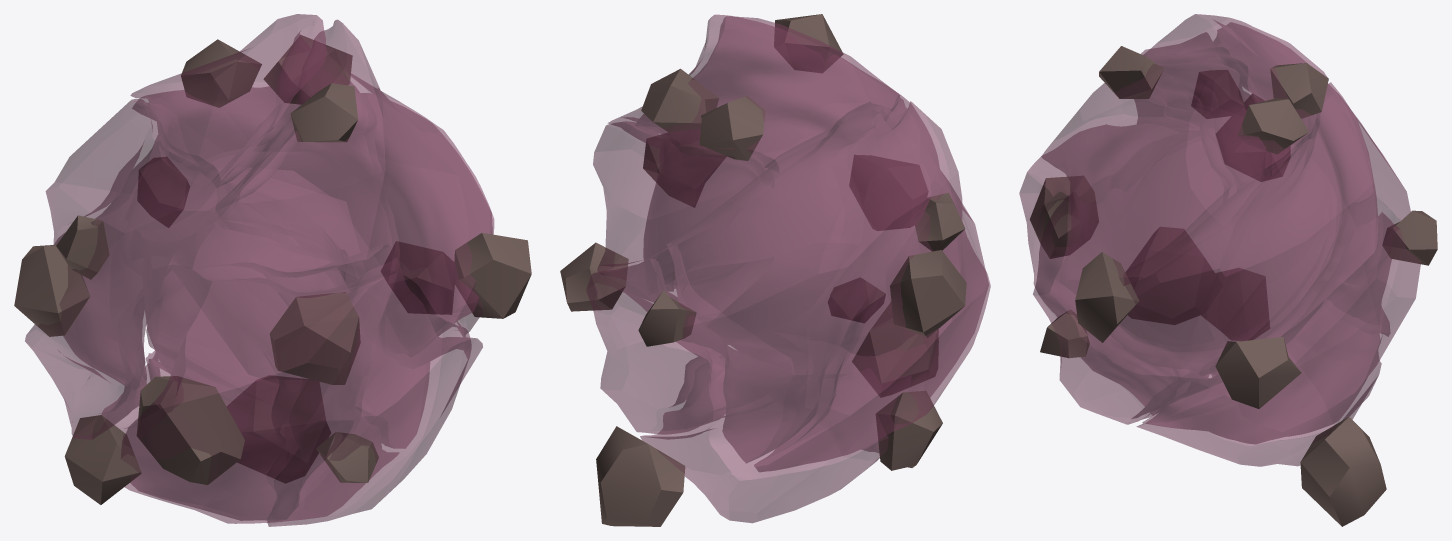
The model's file is p_mesh_hvs_gold_destruct_dissolve_pose0.fbx.
3 renders of one model, left to right at view 1: azimuth 30°, elevation 25°; view 2: azimuth 150°, elevation 25°; view 3: azimuth 270°, elevation 25°, orthographic. The views are drawn at different scales.
Parts seen in each view (by area): view 1: rock2.003; view 2: rock2.003; view 3: rock2.003.
Boxes of the visible parts, x1,y1,x2,y2 form: rock2.003: (14,14,531,526); rock2.003: (560,14,990,526); rock2.003: (1019,14,1437,526).
Bounding box in the file's own units: 8.67 × 9.82 × 8.08.
